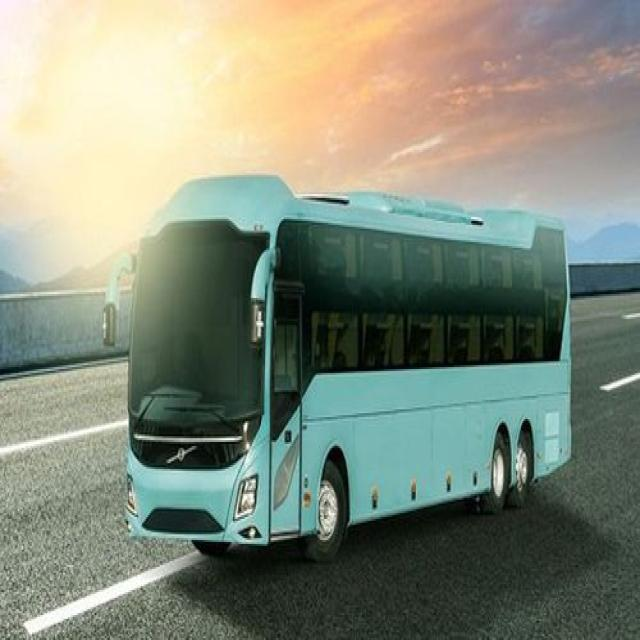bus: (100, 176, 570, 559)
